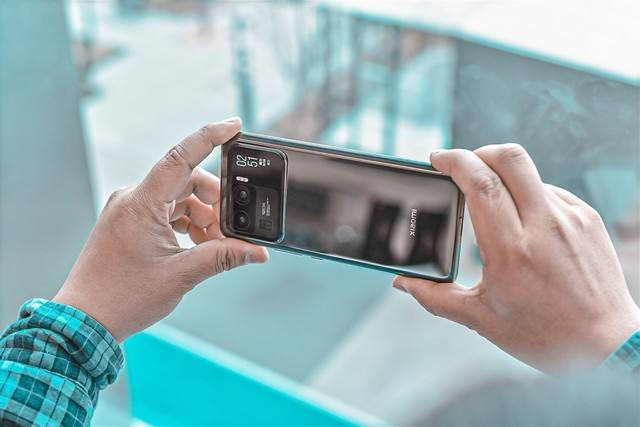taking photos: (54, 112, 631, 374)
